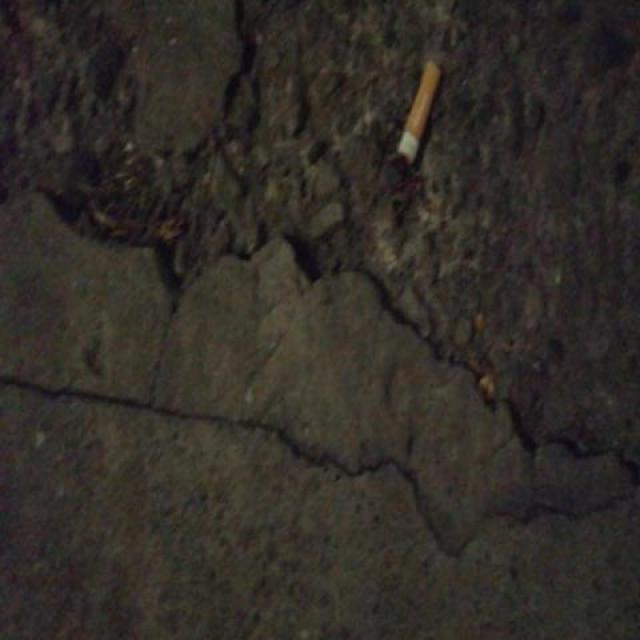non-organic waste: (395, 54, 445, 174)
